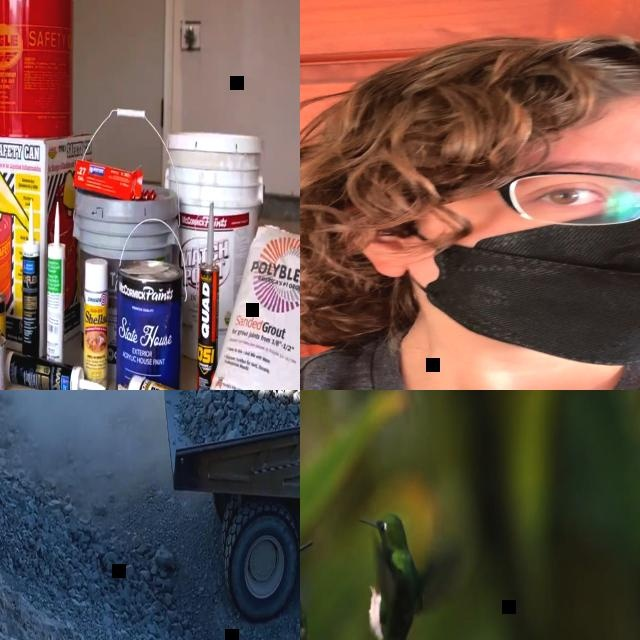Mask: (386, 203, 640, 369)
NO-Hardhat: (341, 35, 640, 151)
Person: (300, 34, 640, 390)
machinery: (158, 390, 300, 626)
